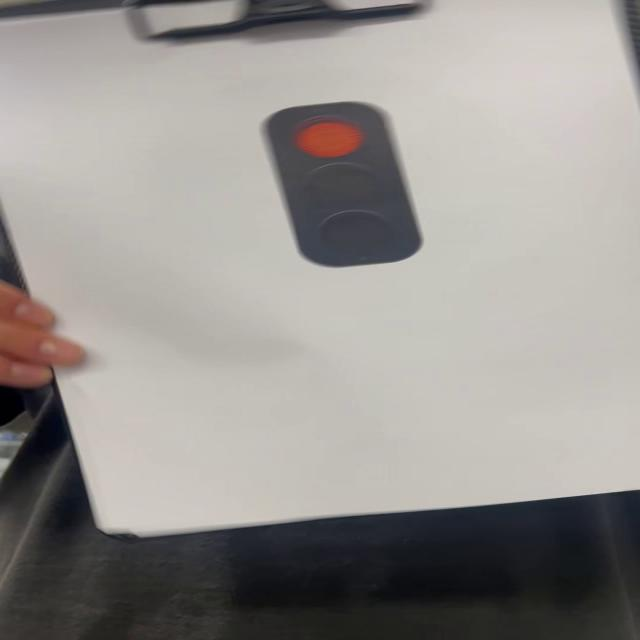red: (262, 101, 427, 268)
